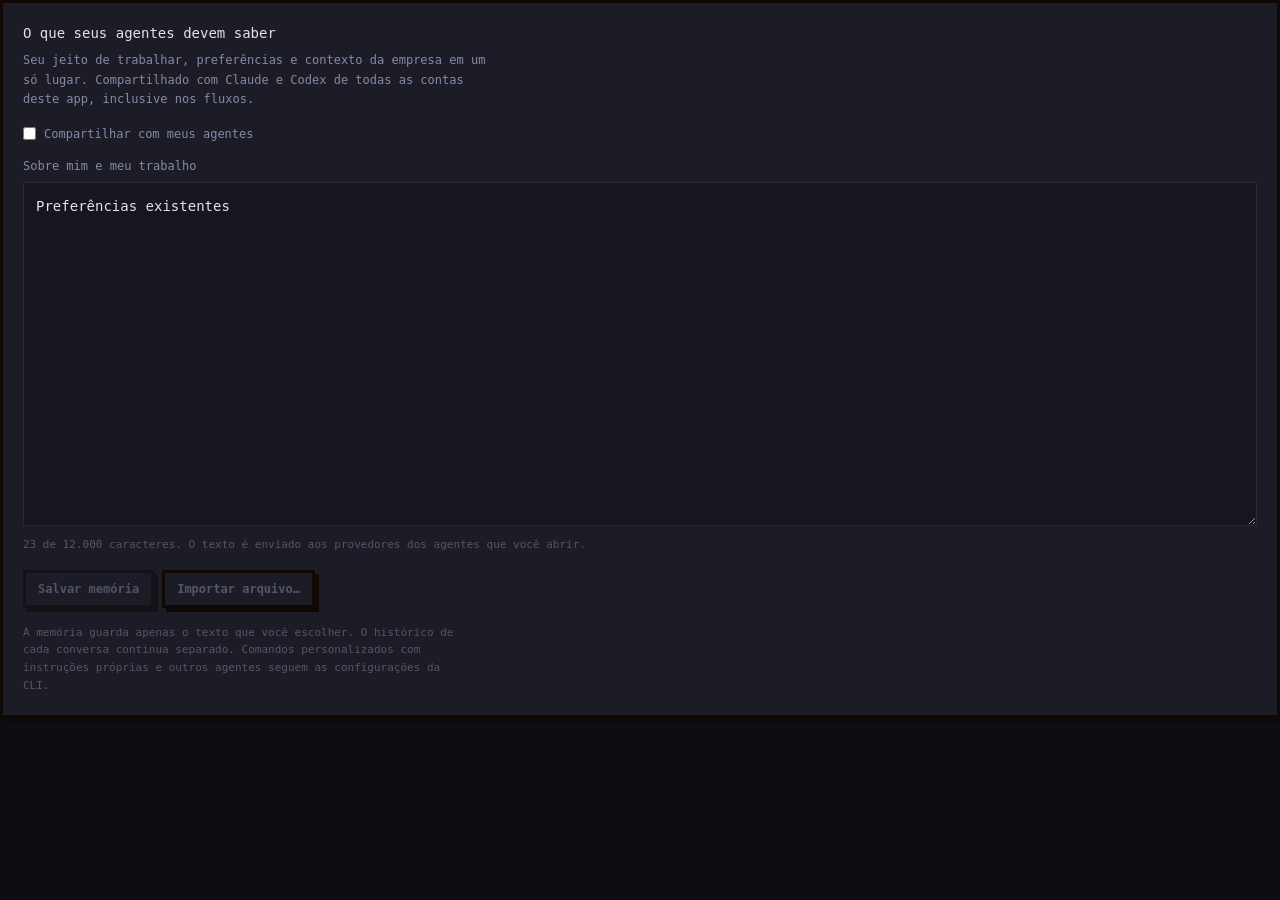
Test: preserva o conteúdo existente e só salva depois da ação explícita
The width and height of the screenshot is (1280, 900).
expect the button "Salvar memória" is disabled: met, box [23,570,154,608]
Replace the text in the text box labelled "Sobre mim e meu trabalho" with "Enzo. Respostas curtas em português.": [640, 354] box [23,182,1257,526]
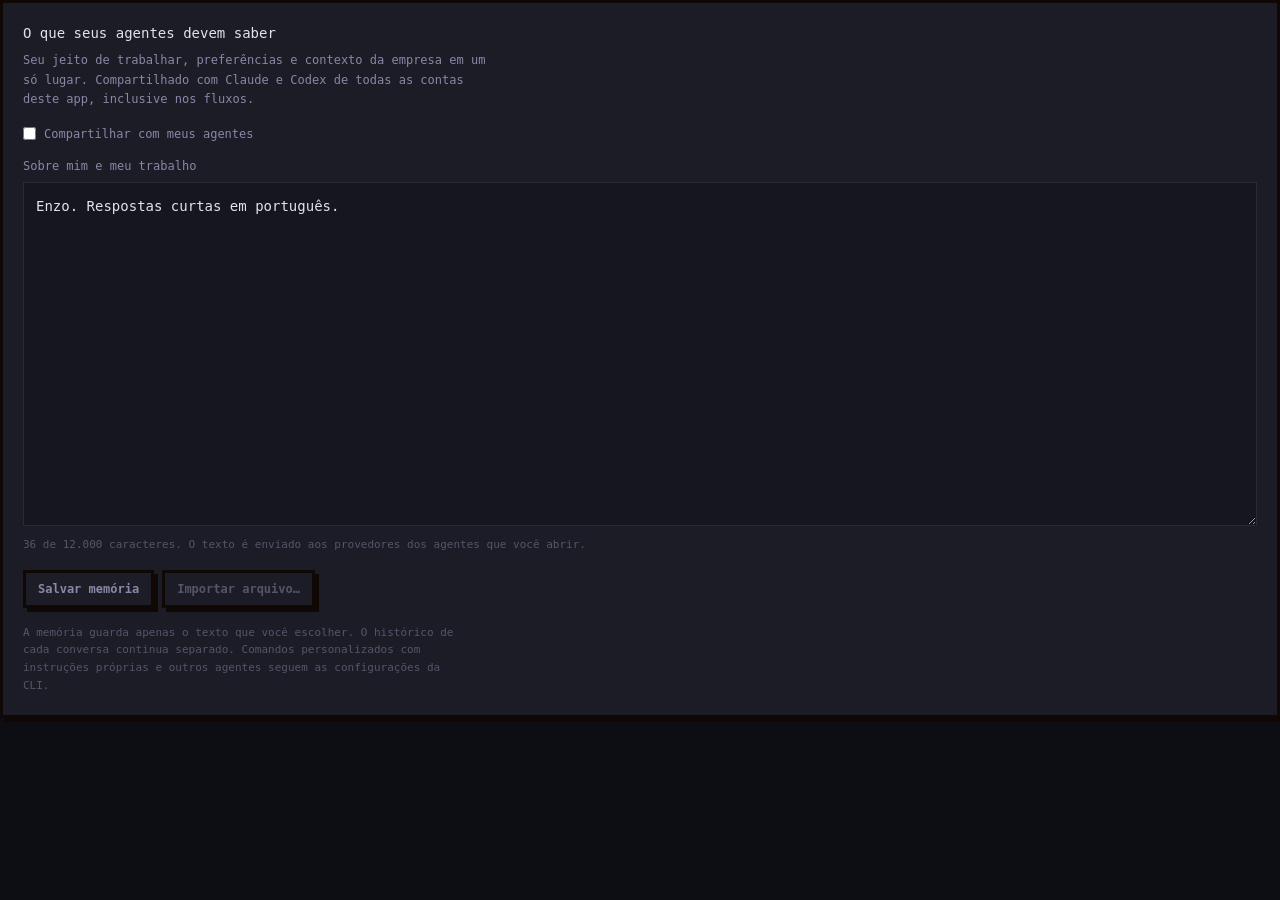
Click the checkbox: [30, 134] box [23,127,36,140]
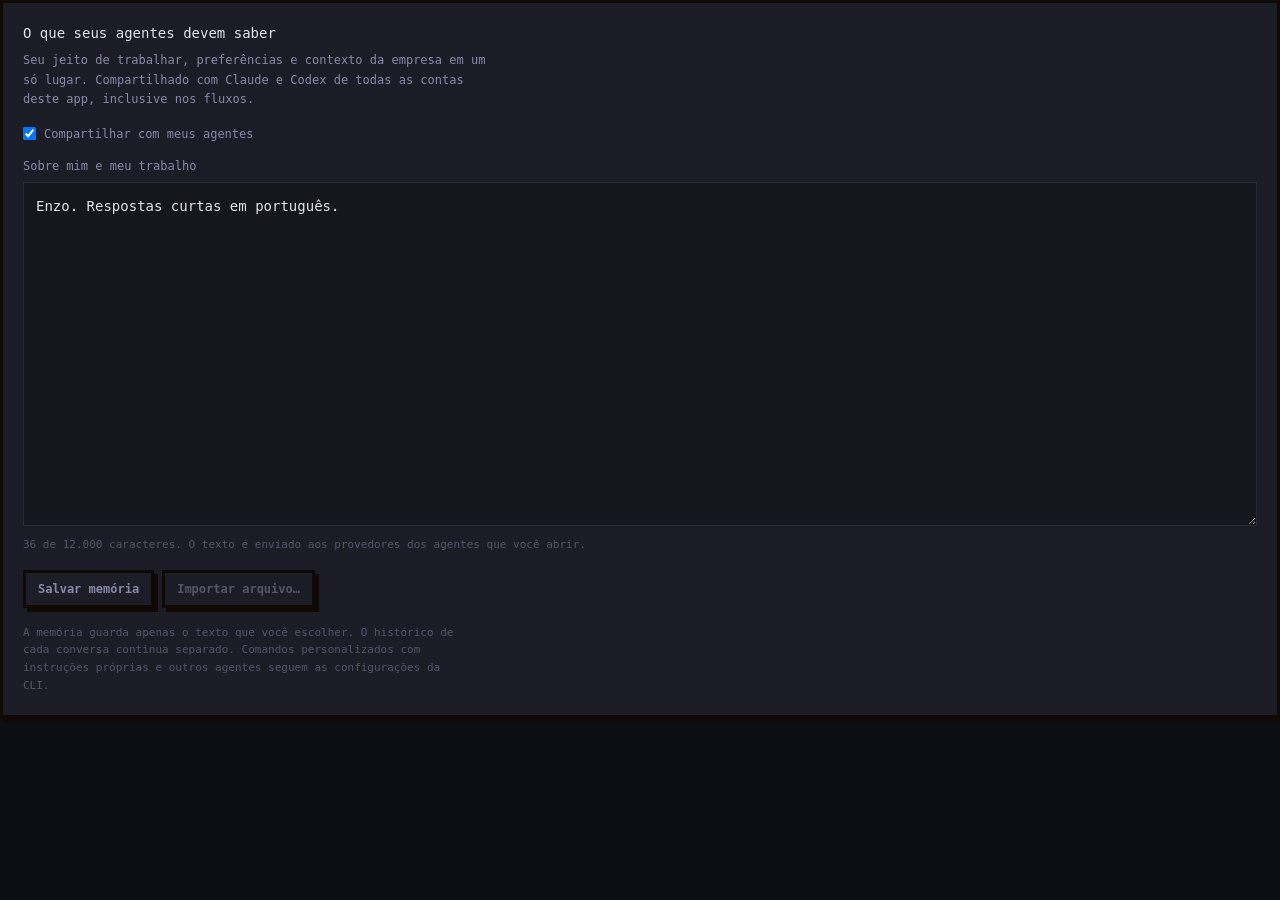
Click the button "Salvar memória": [89, 588] box [23,570,154,608]
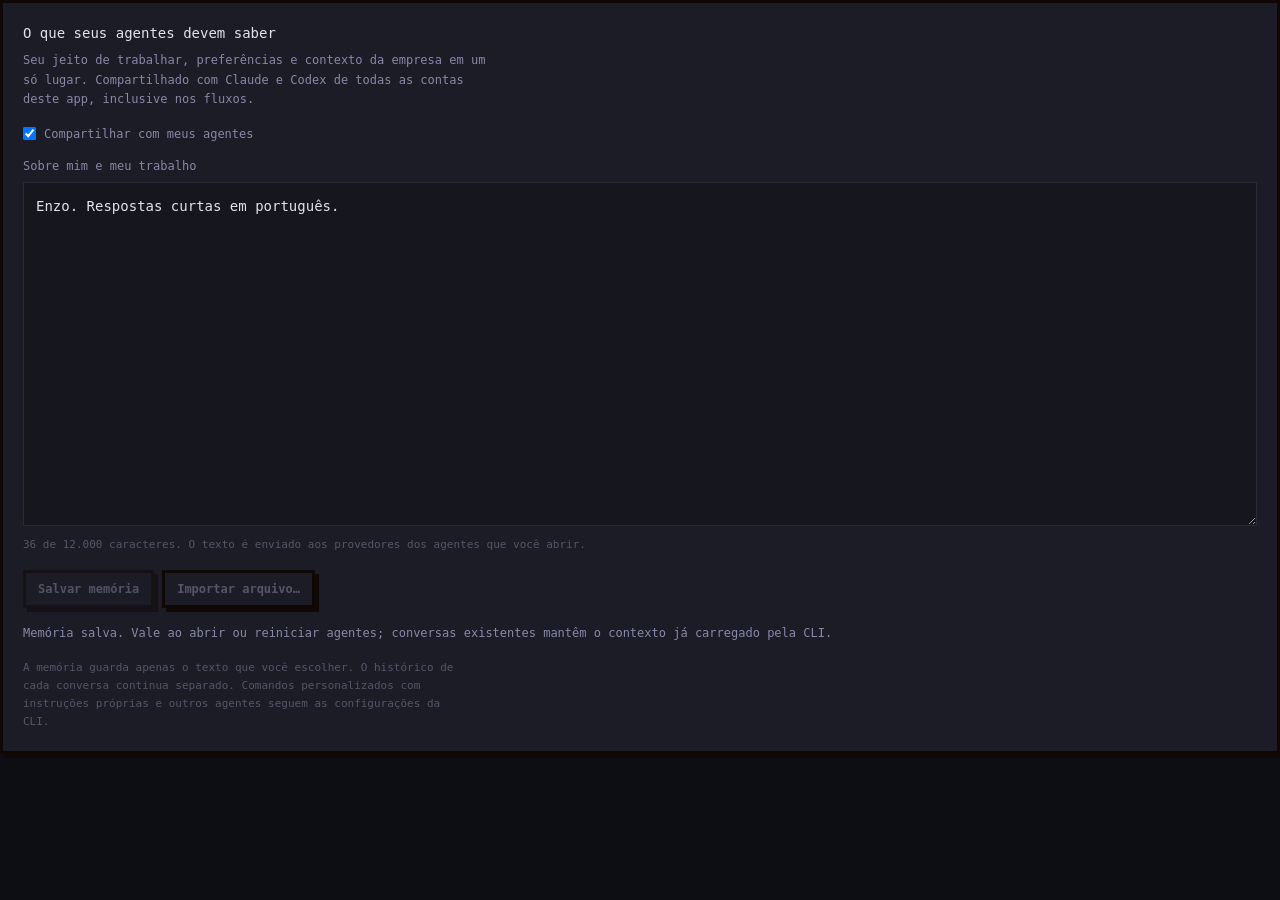
expect the message is shown: met, box [23,626,832,640]
expect the button "Salvar memória" is disabled: met, box [23,570,154,608]
